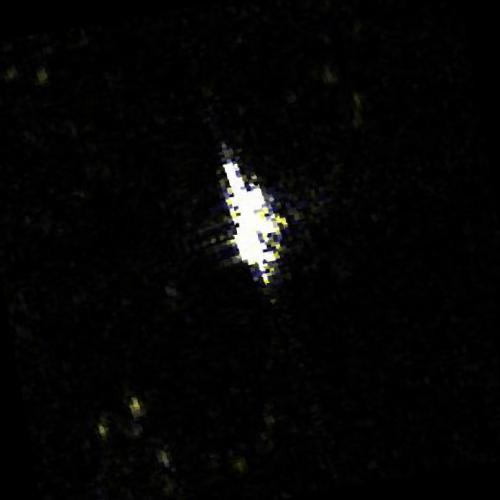ship: (221, 156, 280, 284)
